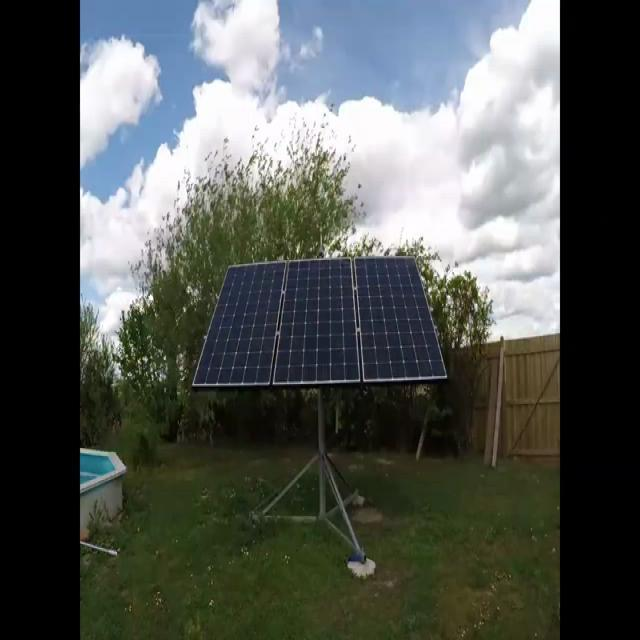Normal Solar Panel: (356, 257, 448, 383), (194, 263, 286, 387), (274, 259, 361, 385)
